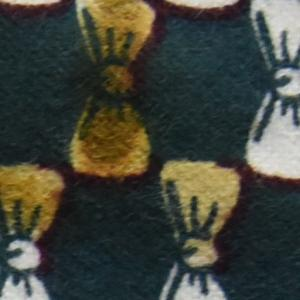Oil Stain: (1, 1, 261, 280)
